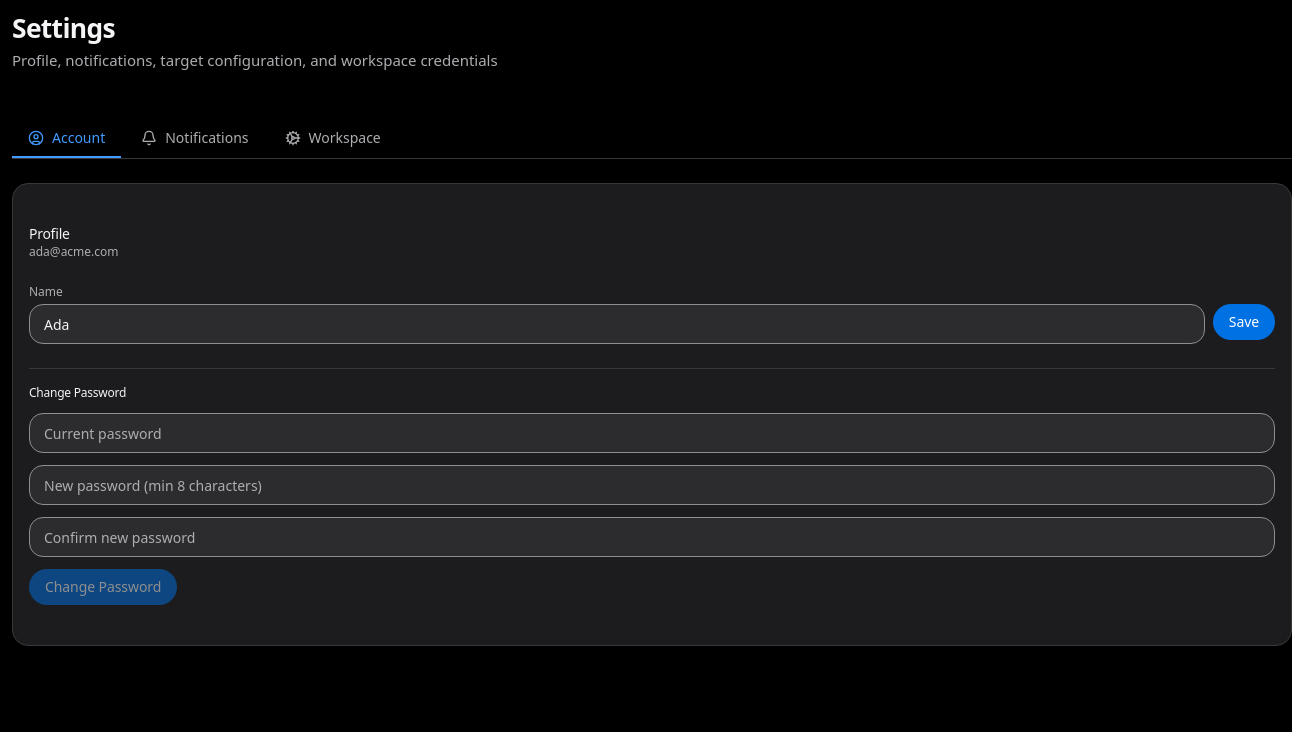
Test: Settings, saving notification preferences › surfaces the failure and leaves the edit in place to retry
Expected: the text "ada@acme.com" is shown, [29,243,119,260]
Click the button "Notifications".
click(195, 139)  # box [125,120,264,158]
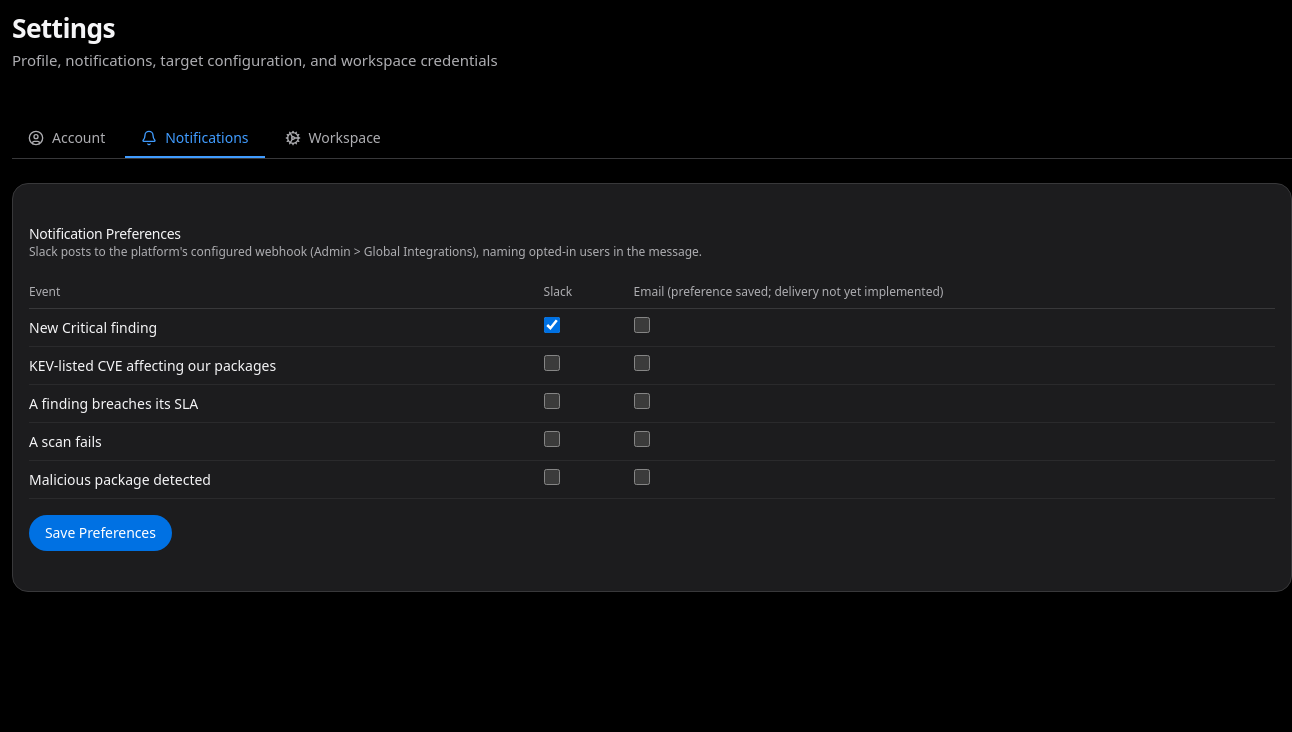
Expected: the checkbox named "Slack for New Critical finding" is shown
Click the checkbox named "Slack for New Critical finding".
click(552, 325)  # box [544,317,560,333]
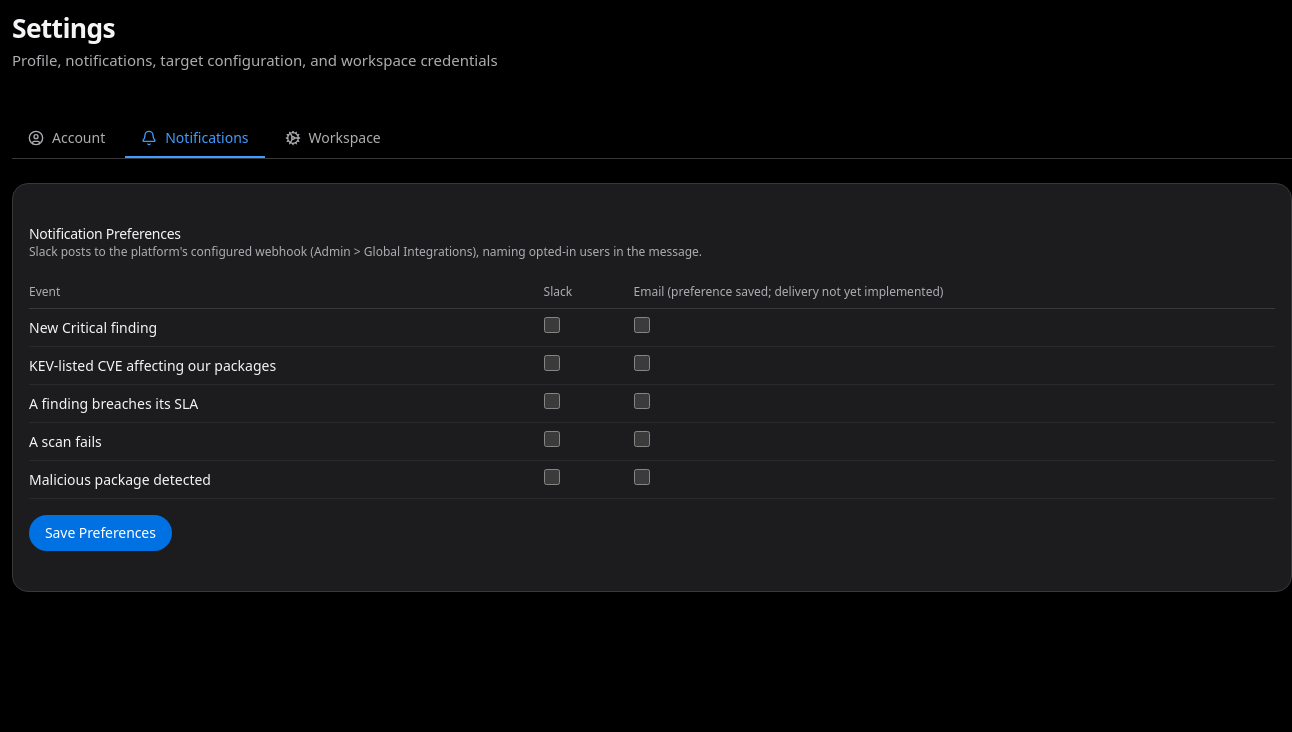
Click the button "Save Preferences".
click(100, 533)  # box [29,515,172,551]
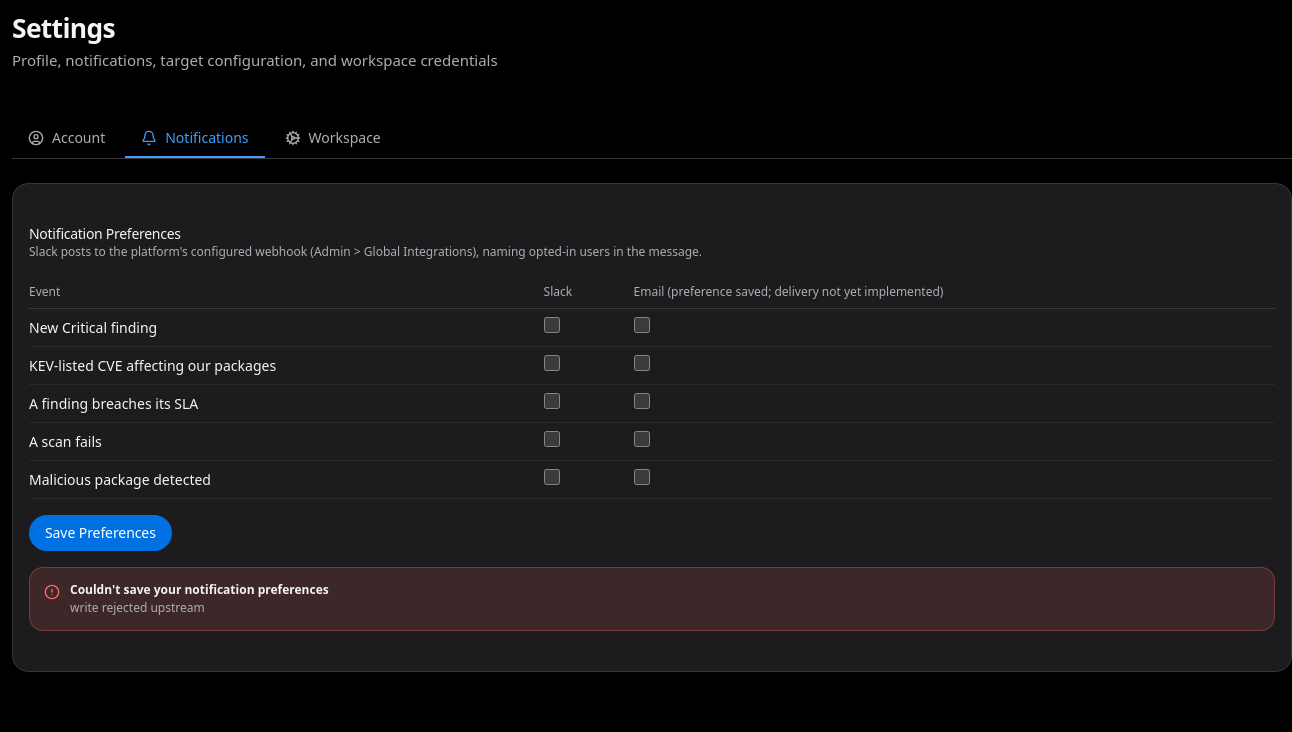
Expected: the checkbox named "Slack for New Critical finding" is not checked, [544,317,560,333]
Expected: the message shows "write rejected upstream", [70,599,205,616]
